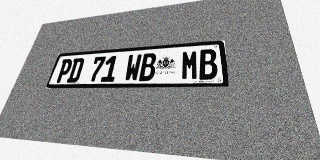1: (100, 55, 119, 82)
7: (87, 56, 106, 82)
B: (199, 49, 218, 80), (139, 53, 157, 81)
D: (66, 58, 85, 83)
M: (181, 50, 199, 80)
P: (55, 59, 74, 83)
W: (124, 54, 142, 81)
